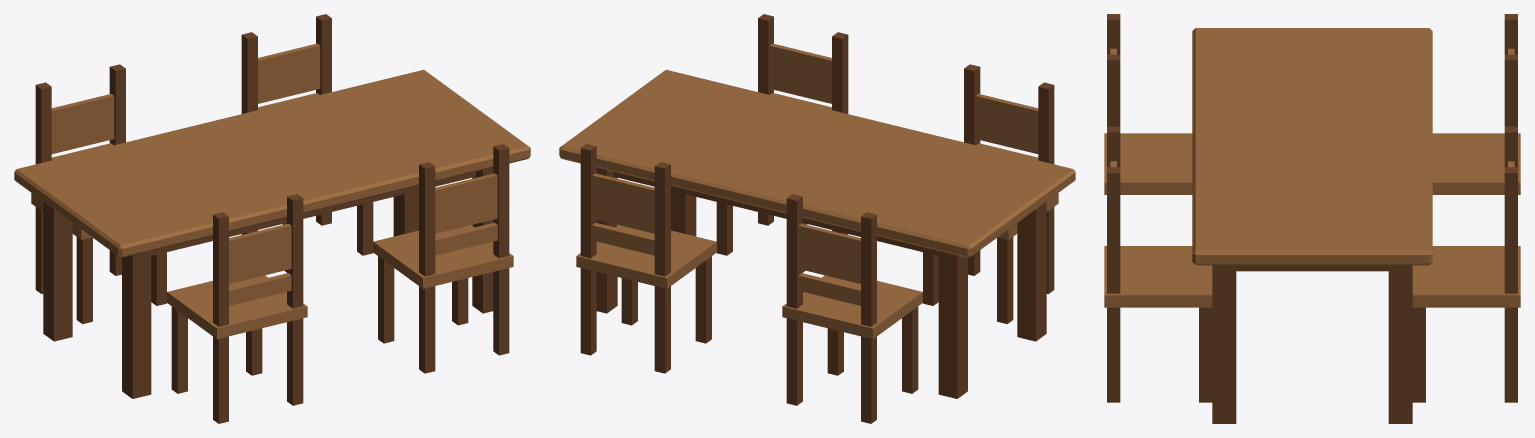
The model's file is dining-table.glb.
3 renders of one model, left to right at view 1: azimuth 30°, elevation 25°; view 2: azimuth 150°, elevation 25°; view 3: azimuth 270°, elevation 25°, orthographic. The views are drawn at different scales.
Visible parts, largest first — view 1: Dining table top, Dining chair B, Dining chair A, Dining table legs, Dining chair C, Dining chair D, Dining table apron; view 2: Dining table top, Dining chair D, Dining chair C, Dining table legs, Dining chair A, Dining chair B, Dining table apron; view 3: Dining table top, Dining chair B, Dining chair D, Dining table legs, Dining chair A, Dining chair C, Dining table apron.
Part boxes in pixels (x1,y1,x2,y2): Dining table top: [14, 69, 530, 258]; Dining chair B: [373, 144, 513, 373]; Dining chair A: [167, 194, 307, 423]; Dining table legs: [43, 167, 493, 398]; Dining chair C: [31, 64, 166, 324]; Dining chair D: [241, 14, 373, 272]; Dining table apron: [151, 171, 475, 255]; Dining table top: [559, 69, 1075, 258]; Dining chair D: [576, 144, 716, 373]; Dining chair C: [782, 194, 922, 423]; Dining table legs: [596, 167, 1046, 398]; Dining chair A: [923, 64, 1058, 324]; Dining chair B: [716, 14, 848, 272]; Dining table apron: [614, 171, 938, 255]; Dining table top: [1192, 28, 1432, 265]; Dining chair B: [1104, 126, 1212, 402]; Dining chair D: [1412, 126, 1520, 402]; Dining table legs: [1212, 265, 1412, 423]; Dining chair A: [1104, 14, 1192, 194]; Dining chair C: [1432, 14, 1520, 194]; Dining table apron: [1236, 265, 1388, 271].
Bounding box in the file's own units: 2 × 0.95 × 1.56.
